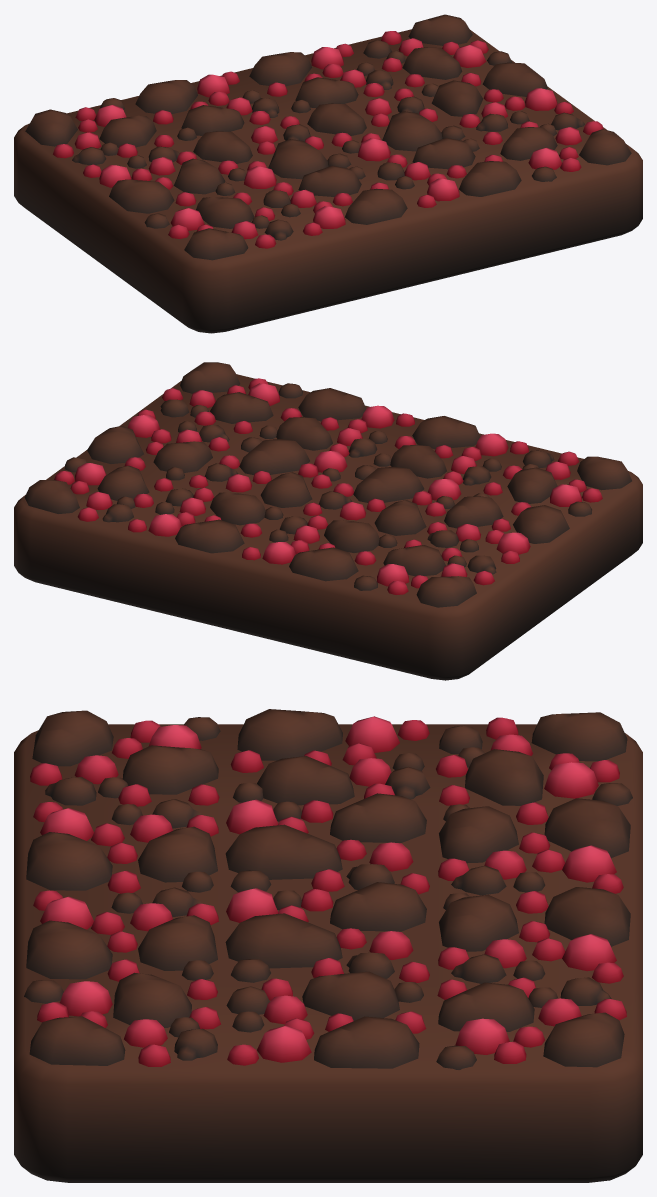
Rendered from m_SheetCake02.fbx.
3 views of the same model, one above another, from view 1: azimuth 30°, elevation 25°; view 2: azimuth 150°, elevation 25°; view 3: azimuth 270°, elevation 25° (orthographic). The views are drawn at different scales.
Parts seen in each view (by area): view 1: m_SheetCake02; view 2: m_SheetCake02; view 3: m_SheetCake02.
Boxes of the visible parts, bbox=[...] form: m_SheetCake02: bbox=[14, 14, 642, 333]; m_SheetCake02: bbox=[14, 362, 642, 680]; m_SheetCake02: bbox=[14, 709, 642, 1182].
Size of the model in its own units: 40 by 7.57 by 30.
